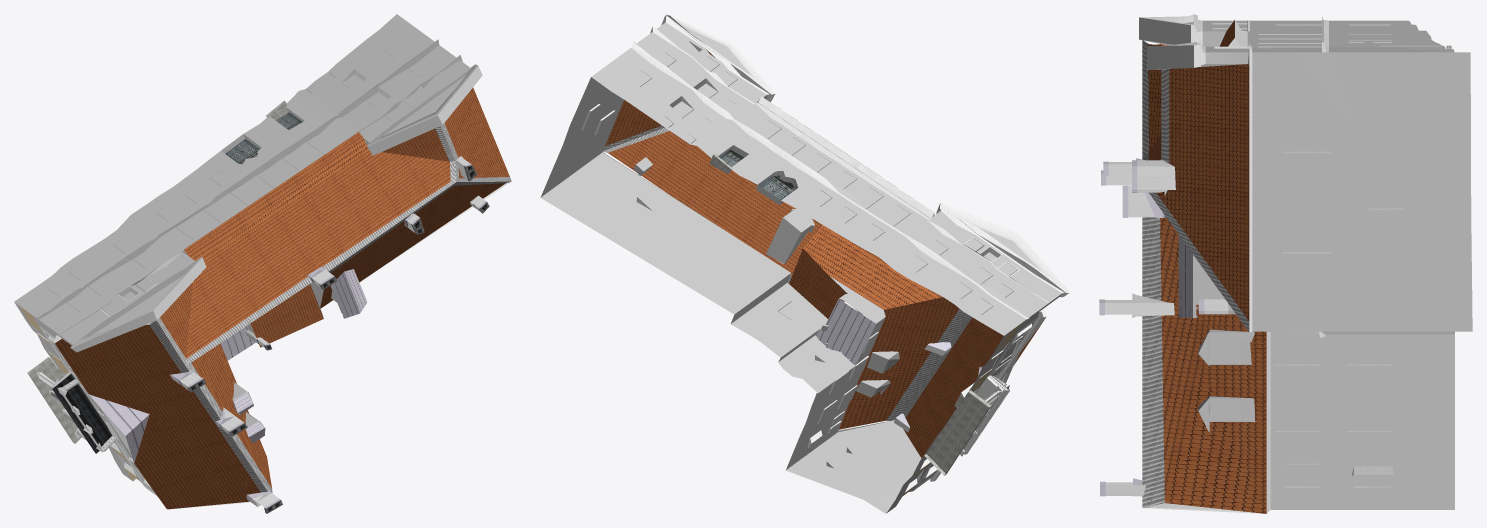
The model's file is Lossi_plats_7-origo.obj.
3 renders of one model, left to right at view 1: azimuth 30°, elevation 25°; view 2: azimuth 150°, elevation 25°; view 3: azimuth 270°, elevation 25°, orthographic. The views are drawn at different scales.
Parts seen in each view (by area): view 1: Lossi_plats_7; view 2: Lossi_plats_7; view 3: Lossi_plats_7.
Part boxes in pixels (box(x1,y1,x2,y2)): Lossi_plats_7: box(14, 14, 511, 513); Lossi_plats_7: box(540, 14, 1070, 513); Lossi_plats_7: box(1099, 14, 1472, 513).
Bounding box in the file's own units: 44.56 × 36 × 17.93.
